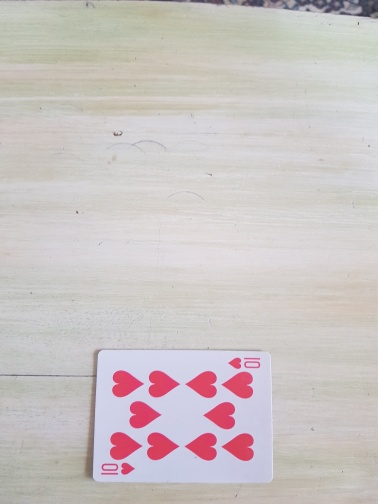ten: (92, 349, 274, 484)
